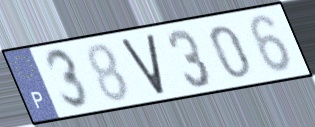0: (207, 23, 257, 80)
3: (44, 45, 92, 113), (165, 27, 213, 91)
6: (248, 11, 296, 78)
8: (85, 40, 132, 104)
V: (118, 30, 167, 97)
